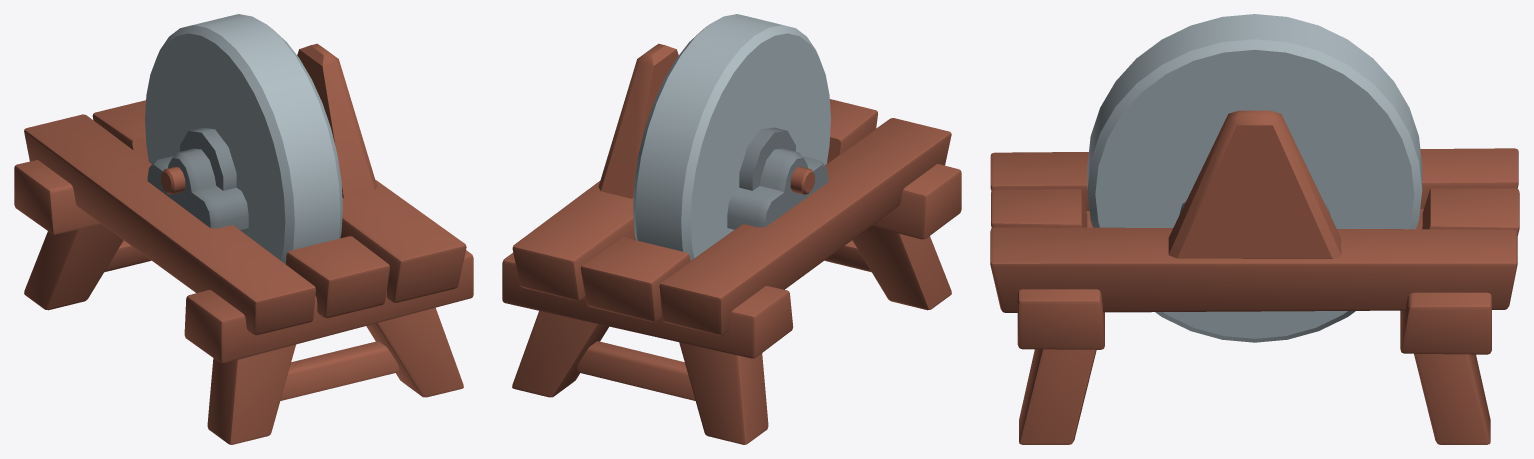
Rendered from grindingWheel.gltf.glb.
3 views of the same model, side by side, from view 1: azimuth 30°, elevation 25°; view 2: azimuth 150°, elevation 25°; view 3: azimuth 270°, elevation 25° (orthographic). The views are drawn at different scales.
Parts seen in each view (by area): view 1: grindingWheel; view 2: grindingWheel; view 3: grindingWheel.
Part boxes in pixels (x1,y1,x2,y2): grindingWheel: [14, 14, 473, 444]; grindingWheel: [502, 14, 961, 444]; grindingWheel: [990, 14, 1519, 444].
Size of the model in its own units: 0.7784 by 0.9142 by 1.24.
